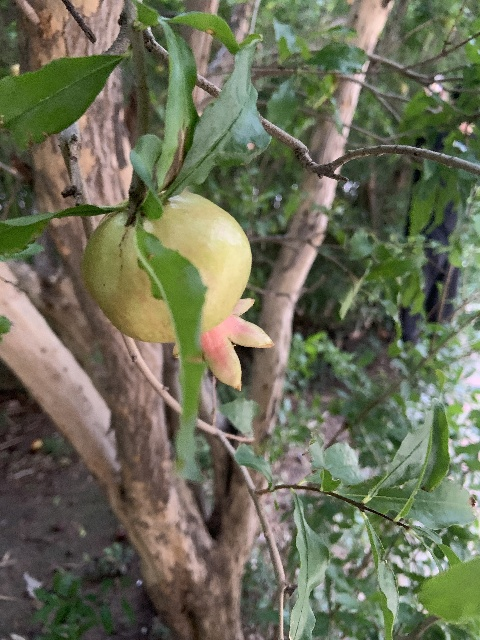mid-growth: (83, 194, 276, 390)
